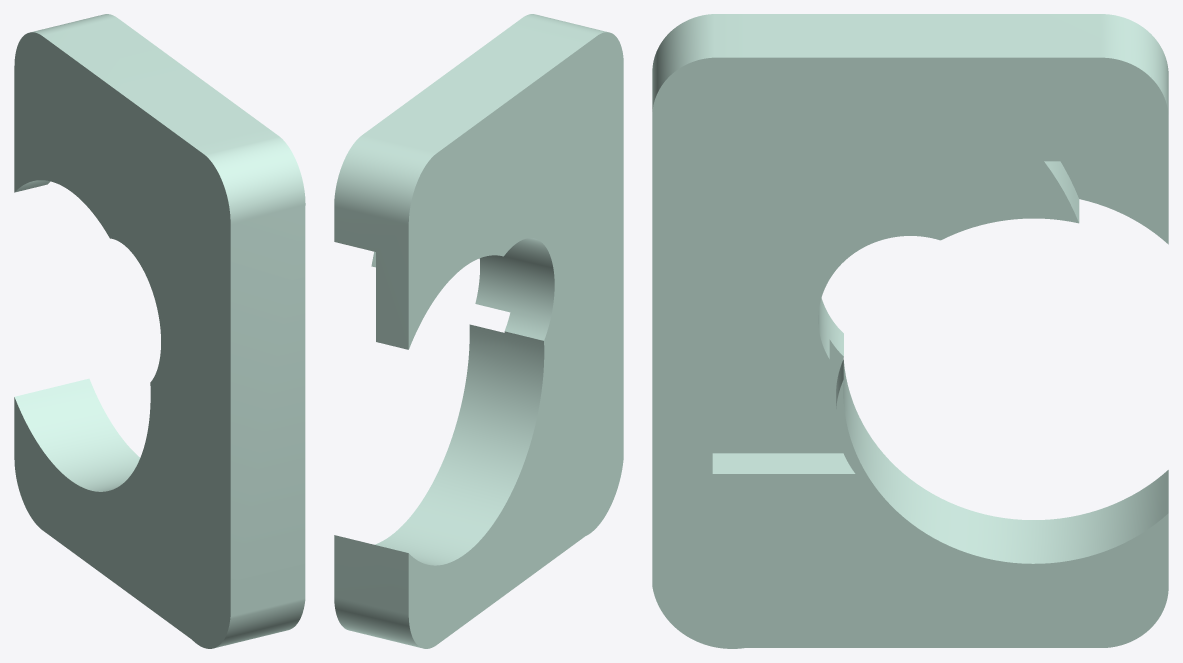
The picture shows the model from 3 angles, left to right: view 1: azimuth 30°, elevation 25°; view 2: azimuth 150°, elevation 25°; view 3: azimuth 270°, elevation 25°; orthographic projection. The views are drawn at different scales.
Visible parts, largest first — view 1: Renderer Node; view 2: Renderer Node; view 3: Renderer Node.
Part boxes in pixels (bbox=[...]): Renderer Node: bbox=[14, 14, 305, 648]; Renderer Node: bbox=[334, 14, 623, 648]; Renderer Node: bbox=[652, 14, 1168, 648].
Size of the model in its own units: 0.2656 by 1.68 by 1.33.
